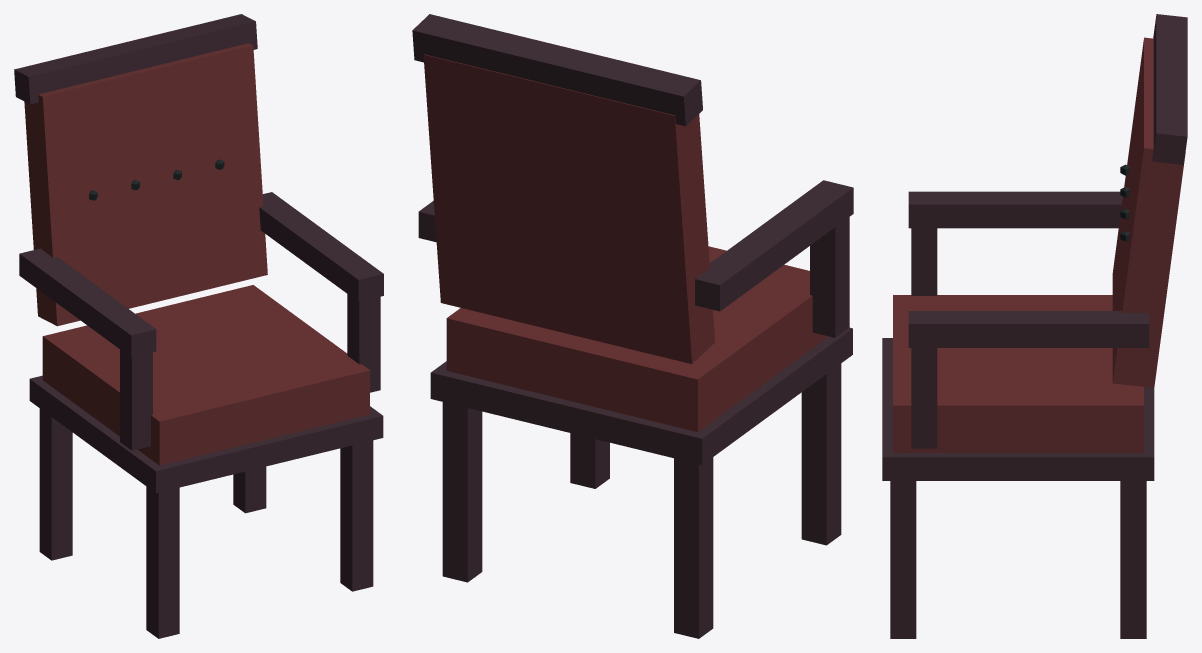
The model's file is scaun_poker.glb.
The picture shows the model from 3 angles, left to right: view 1: azimuth 30°, elevation 25°; view 2: azimuth 150°, elevation 25°; view 3: azimuth 270°, elevation 25°; orthographic projection. The views are drawn at different scales.
Parts seen in each view (by area): view 1: Scaun; view 2: Scaun; view 3: Scaun.
Part boxes in pixels (left/top/right/bottom): Scaun: left=14, top=14, right=383, bottom=638; Scaun: left=412, top=14, right=853, bottom=638; Scaun: left=882, top=14, right=1187, bottom=638.
Size of the model in its own units: 0.6 by 1.07 by 0.5834.
